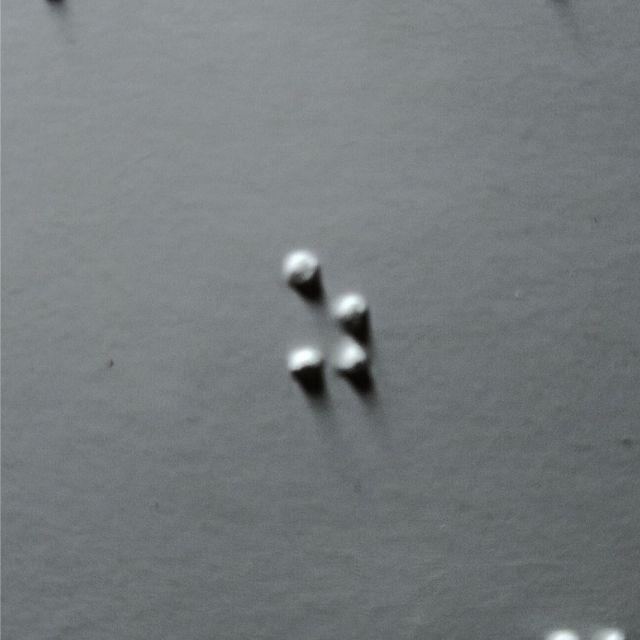z: (283, 250, 373, 387)
